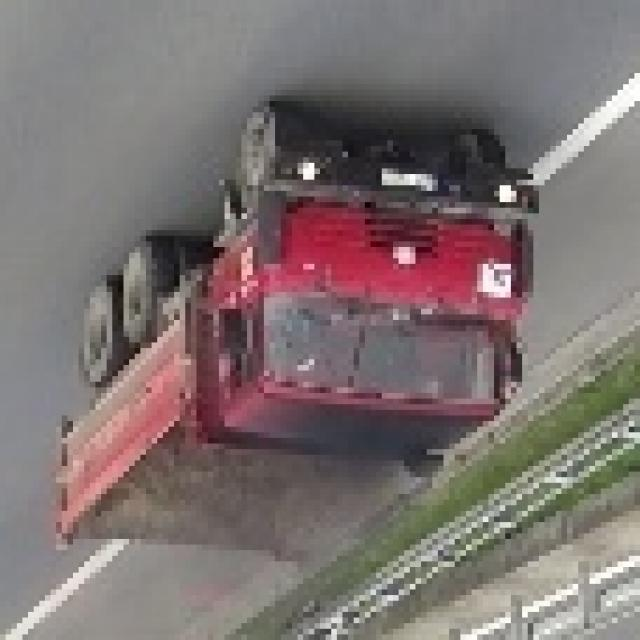truck: (45, 112, 539, 567)
